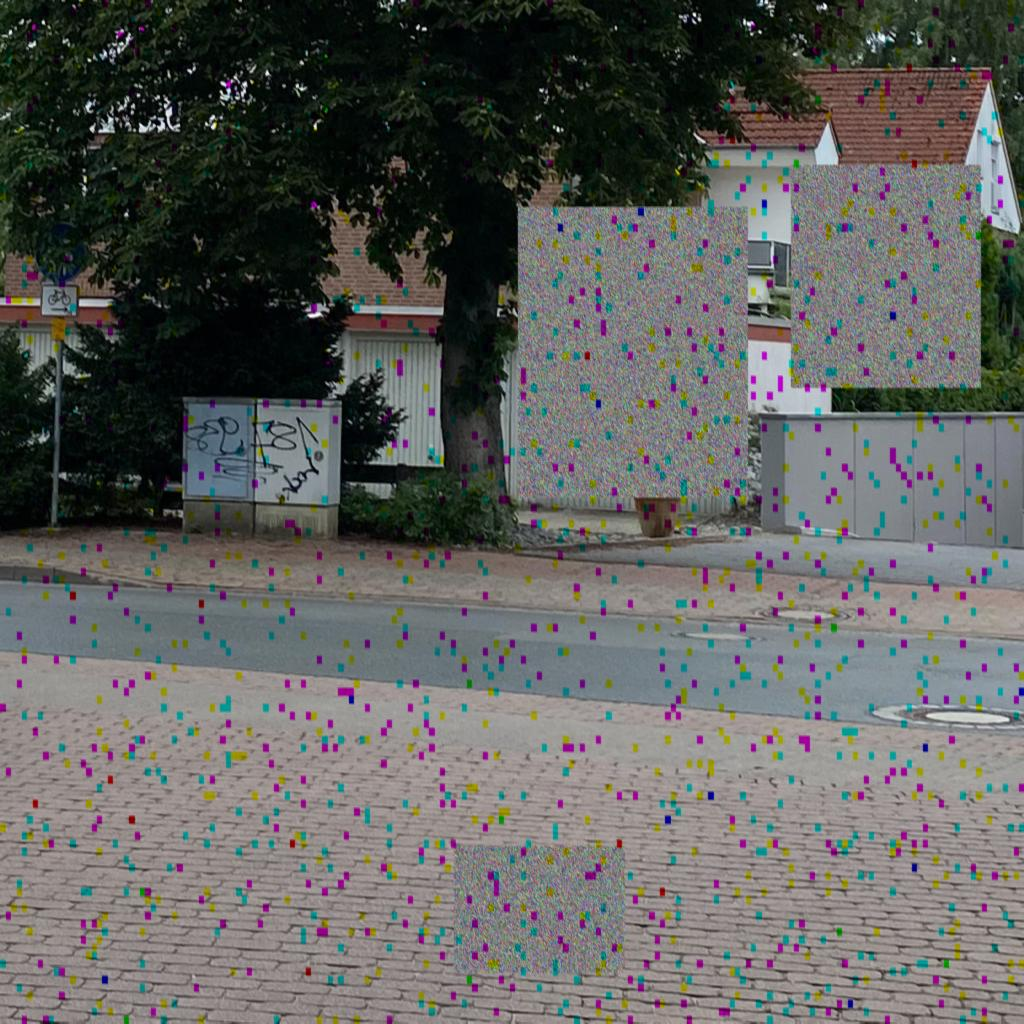tree: (1, 1, 877, 540), (778, 1, 1024, 203)
